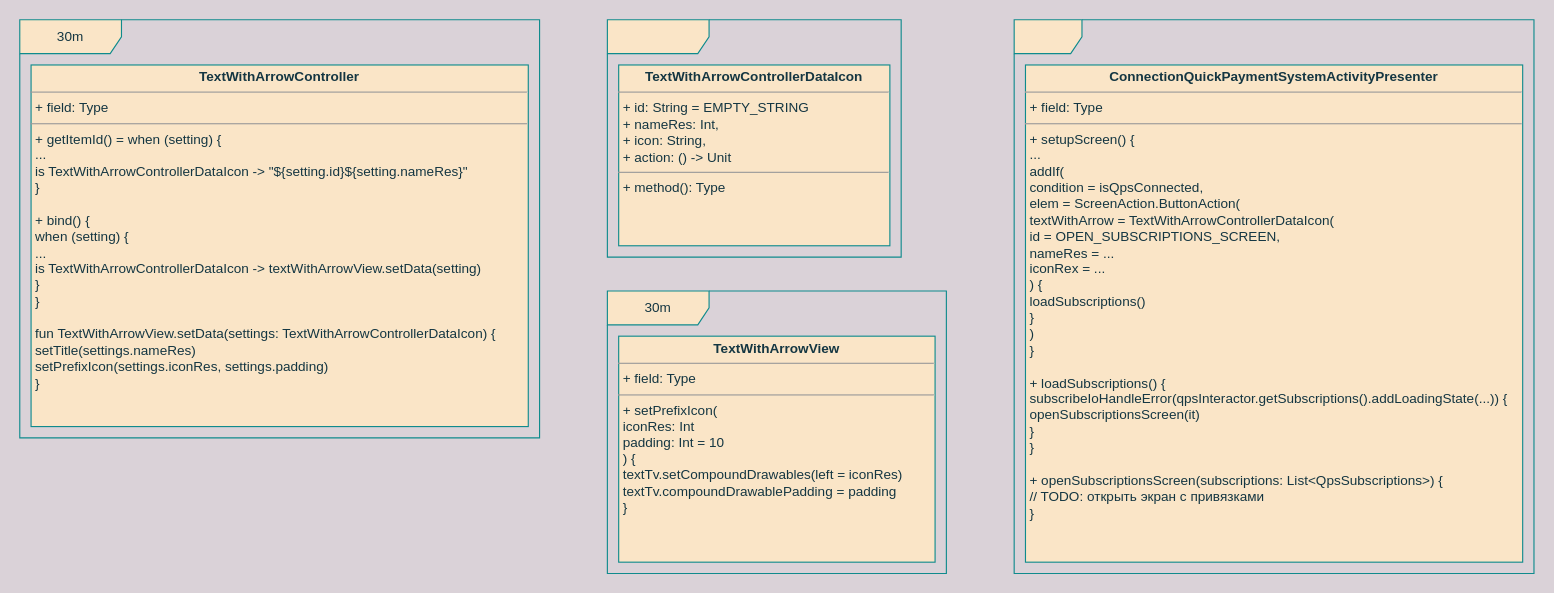
This 1554x593 diagram has some shape labels left out. The centre of each missing label's shape, as x and y in pixels:
"1h" belongs at (1273,296).
"20m" belongs at (753,138).
